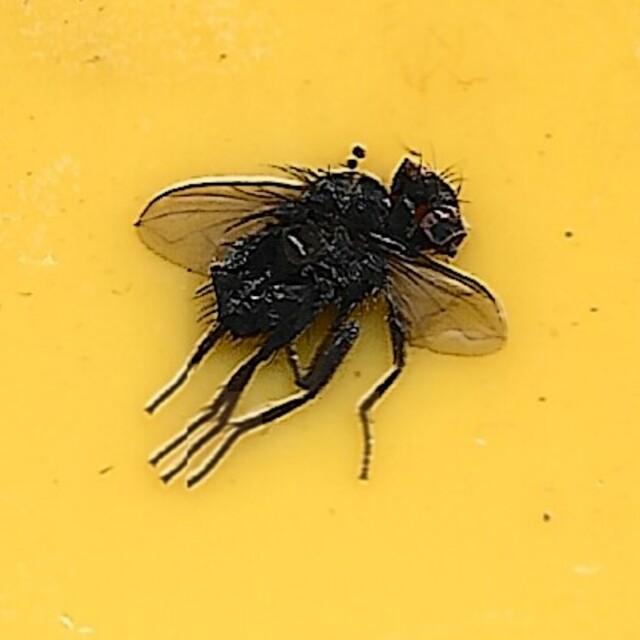Brachycera: (133, 153, 507, 487)
